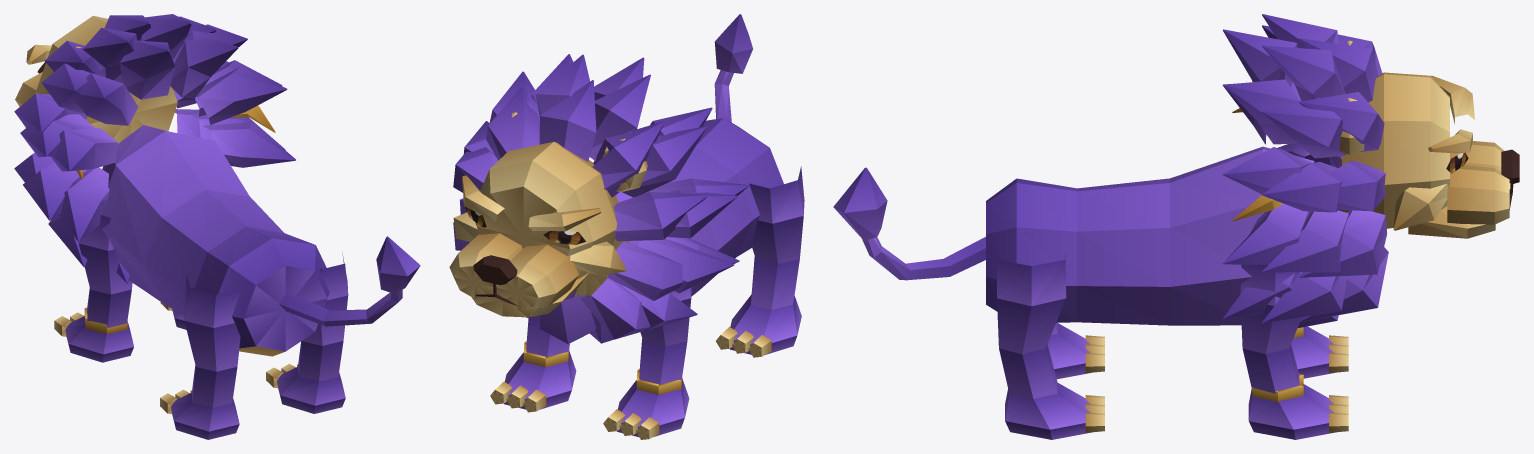
File: Lion_FormStudy.glb
3 renders of one model, left to right at view 1: azimuth 30°, elevation 25°; view 2: azimuth 150°, elevation 25°; view 3: azimuth 270°, elevation 25°, orthographic. The views are drawn at different scales.
Visible parts, largest first — view 1: Body, LeftBackLeg, LeftFrontLeg, RightBackLeg, Head, Mane2_1, Mane2_9, Mane2_2, Mane2_0, Mane2_6, Mane2_7, Mane2_8 (+18 smaller); view 2: Head, LeftBackLeg, Body, LeftFrontLeg, LeftMuzzle, RightFrontLeg, Mane0_8, Mane0_0, Mane0_7, Mane0_9, Mane1_11, Mane0_6 (+31 smaller); view 3: Body, RightBackLeg, Head, RightFrontLeg, RightMuzzle, Mane1_3, Mane0_3, Mane2_2, Mane1_0, Mane1_1, Mane1_2, Mane1_4 (+18 smaller).
Part boxes in pixels (x1,y1,x2,y2): Body: (102,125,329,356); LeftBackLeg: (171,274,240,439); LeftFrontLeg: (65,215,133,362); RightBackLeg: (277,253,348,413); Head: (36,15,177,143); Mane2_1: (196,66,287,124); Mane2_9: (119,40,174,99); Mane2_2: (202,122,295,167); Mane2_0: (170,36,238,98); Mane2_6: (58,167,109,241); Mane2_7: (50,128,117,171); Mane2_8: (75,73,137,125); Head: (475,141,617,280); LeftBackLeg: (729,166,804,354); Body: (575,118,783,296); LeftFrontLeg: (617,287,691,436); LeftMuzzle: (497,244,578,309); RightFrontLeg: (504,318,576,409); Mane0_8: (613,192,708,241); Mane0_0: (539,80,596,161); Mane0_7: (608,241,683,300); Mane0_9: (592,121,664,197); Mane1_11: (589,74,650,160); Mane0_6: (580,274,650,339); Body: (986,146,1314,325); RightBackLeg: (997,253,1091,439); Head: (1342,72,1449,228); RightFrontLeg: (1240,264,1335,439); RightMuzzle: (1447,165,1509,224); Mane1_3: (1262,210,1348,272); Mane0_3: (1299,210,1387,277); Mane2_2: (1222,203,1309,264); Mane1_0: (1262,45,1345,101); Mane1_1: (1262,98,1346,158); Mane1_2: (1262,162,1341,212); Mane1_4: (1262,272,1346,323).
Bounding box in the file's own units: 11.97 × 15 × 25.71.
1 material, 1 textured.
